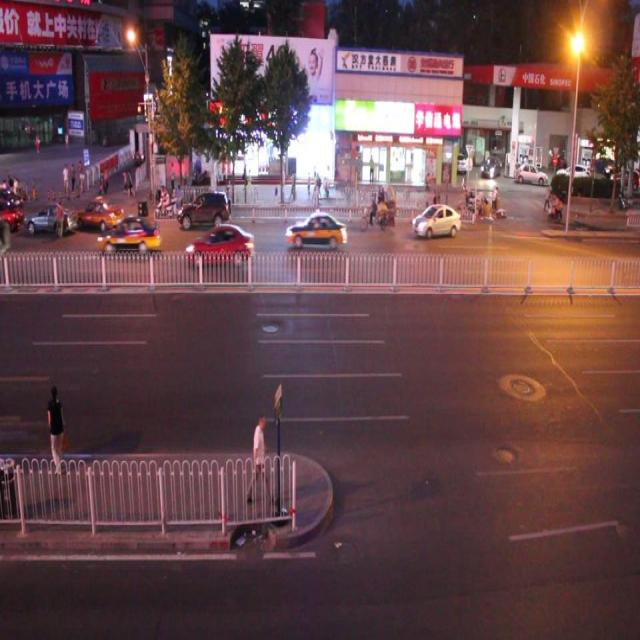car: (182, 223, 254, 265), (96, 214, 162, 257), (284, 207, 346, 249), (175, 184, 230, 228), (22, 199, 78, 234), (413, 200, 459, 240), (77, 194, 124, 231)
